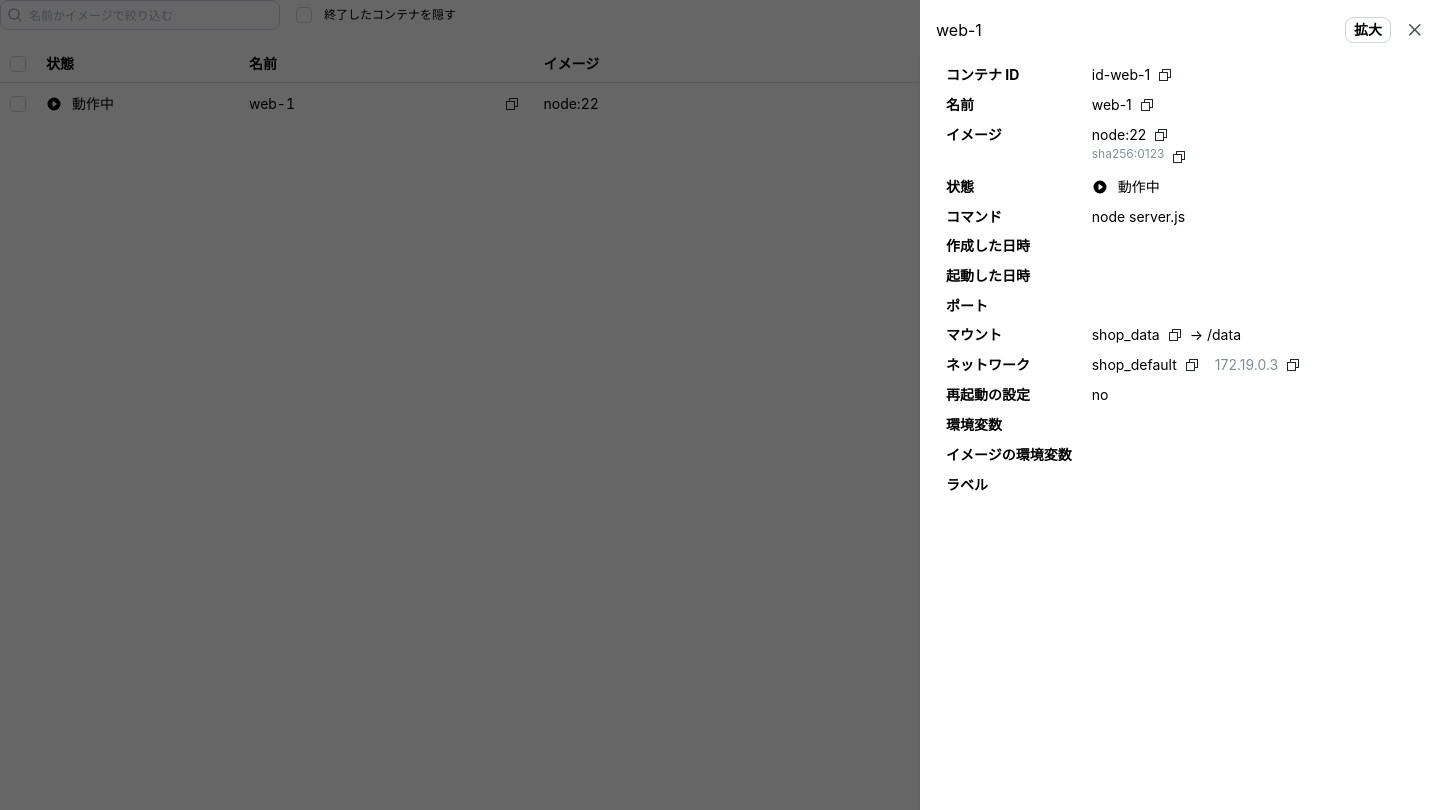
Test: ContainersView の詳細 › 「ネットワーク shop_default の IP アドレスをコピー」を押すと、ボタンの左の値 172.19.0.3 をクリップボードに書き込み、ボタンの上に「コピーしました」を出す
Click the button named "ネットワーク shop_default の IP アドレスをコピー".
click(1293, 365)  # box [1282,354,1304,376]
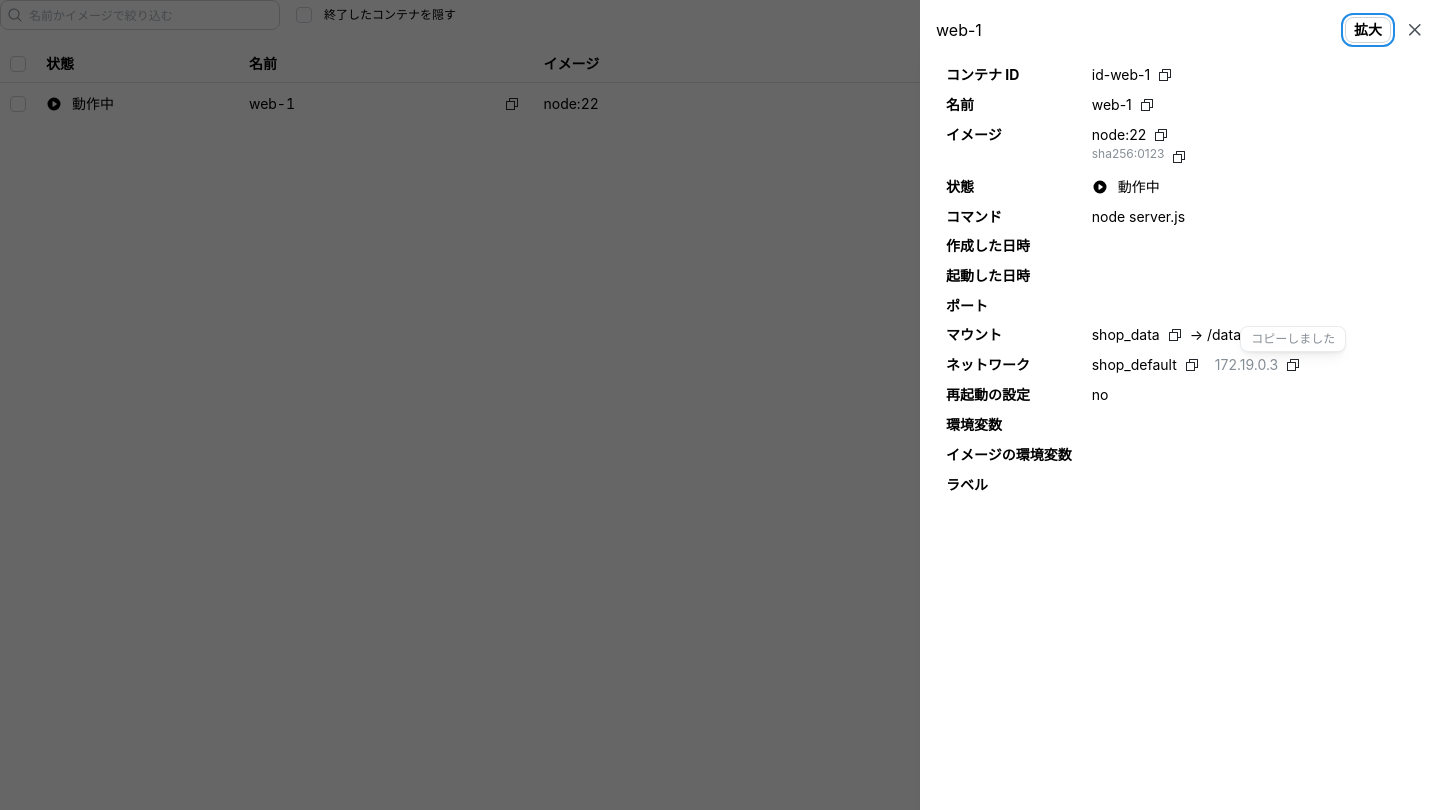
Check: the message reads "コピーしました", box [1251,331,1335,346]
